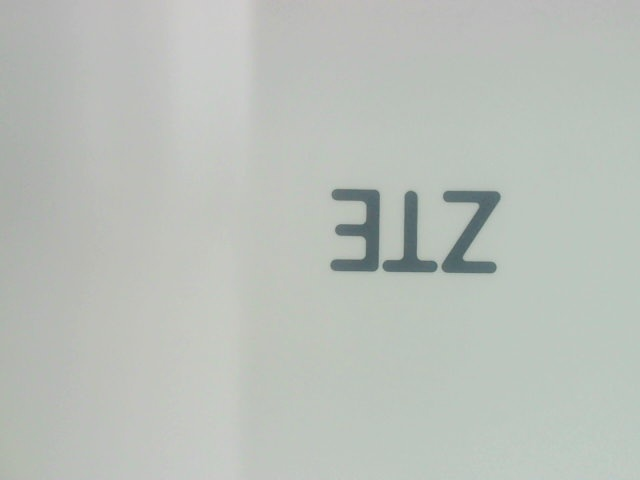AN_ZTE: (319, 174, 510, 284)
